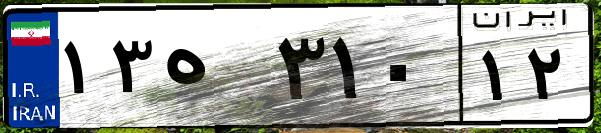0: (385, 28, 445, 110)
1: (330, 28, 385, 110), (57, 26, 110, 100), (475, 38, 525, 113)
2: (525, 38, 570, 115)
3: (270, 28, 330, 110), (110, 28, 158, 98)
ه: (158, 20, 270, 120)
